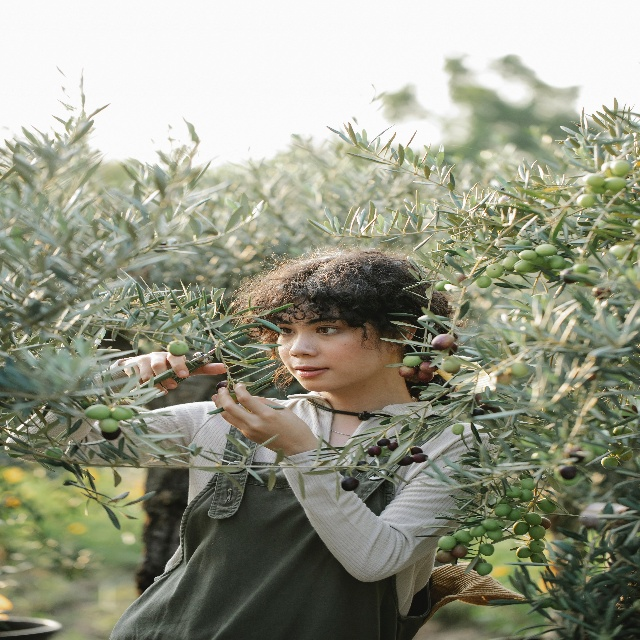Sin_guantes: (210, 382, 310, 451), (124, 350, 228, 396)
